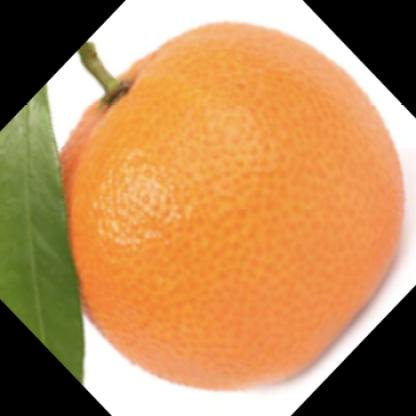fresh: (52, 20, 404, 390)
